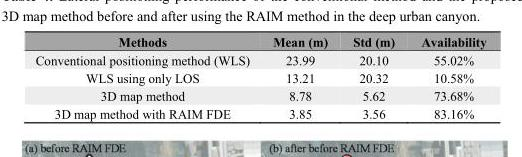table: (34, 34, 485, 120)
table column: (34, 34, 260, 120), (260, 34, 339, 120), (407, 34, 485, 120), (339, 34, 407, 120)
table column header: (34, 34, 485, 50)
table row: (34, 50, 485, 68), (34, 68, 485, 86), (34, 86, 485, 104), (34, 34, 485, 50), (34, 104, 485, 120)
